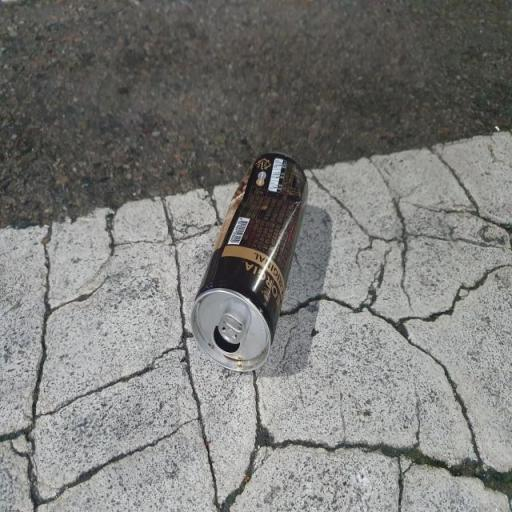metal: (174, 134, 321, 376)
